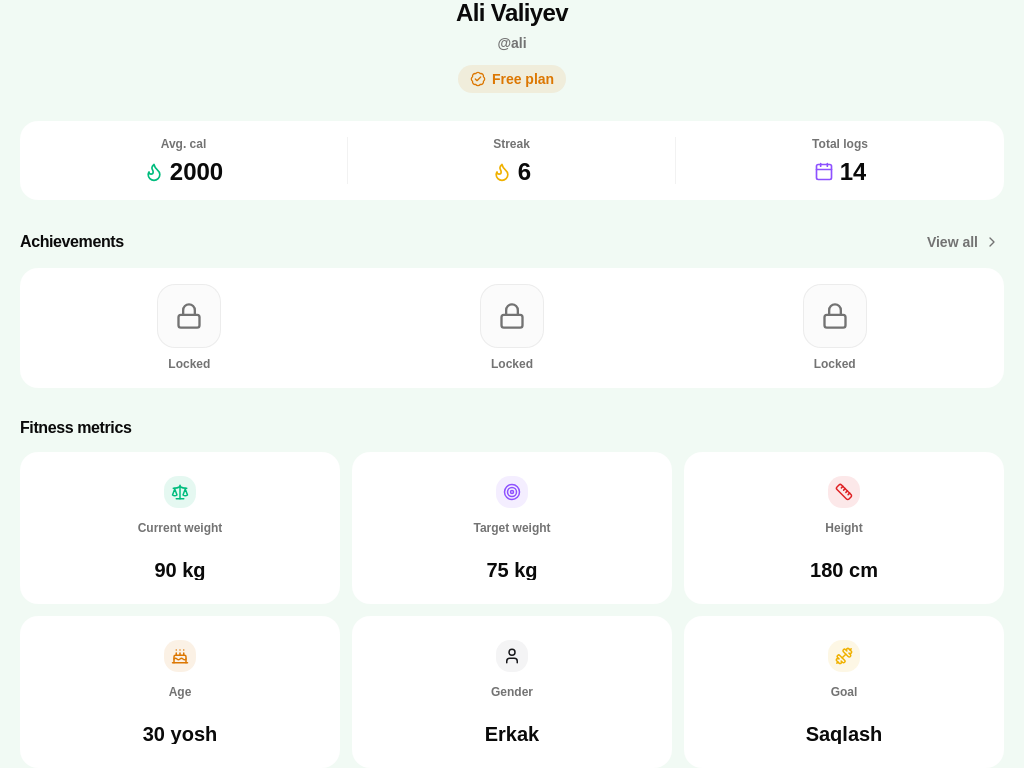
Test: ProfileVitalsCard goal drawers › opens the goal selection drawer from the fitness metric grid
This screenshot has width=1024, height=768.
(page scrolled)
Click the button "Goal Saqlash": click(844, 692) [684,616,1004,767]
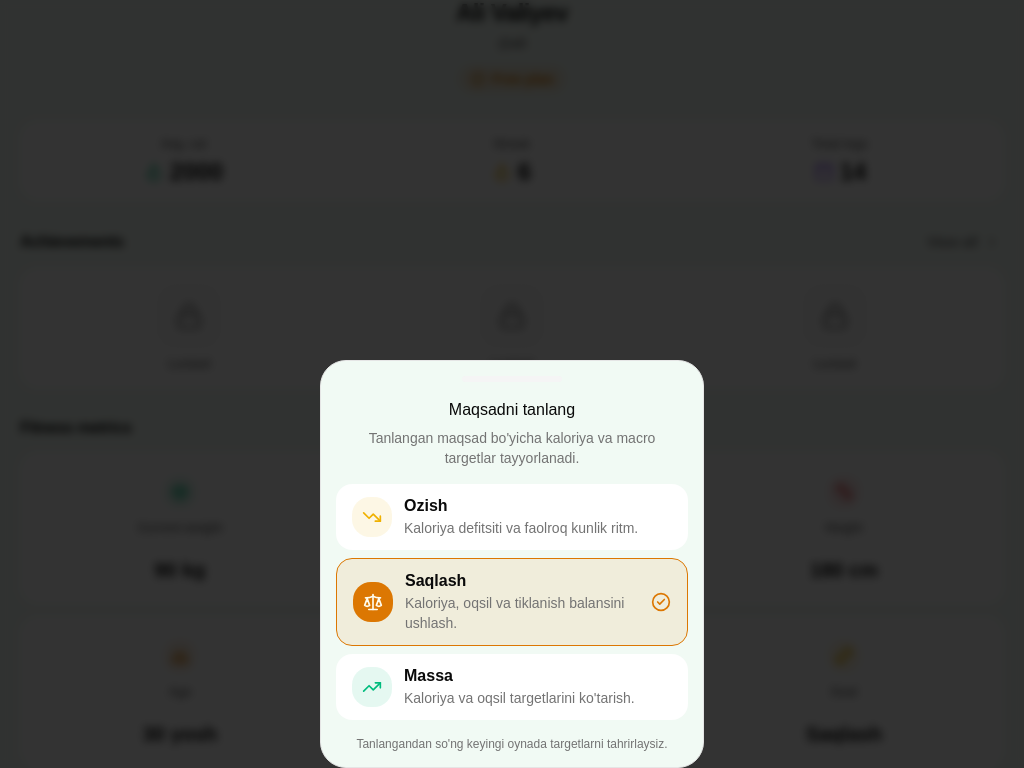
Check: the heading "Maqsadni tanlang" is shown, box [449,398,575,422]
Check: the button "Massa Kaloriya va oqsil targetlarini ko'tarish." is shown, box [336,654,688,720]
